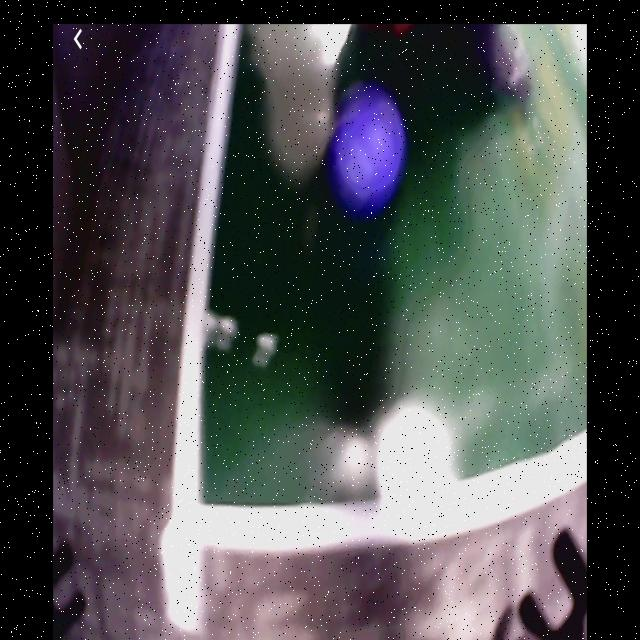ball: (338, 98, 408, 204)
